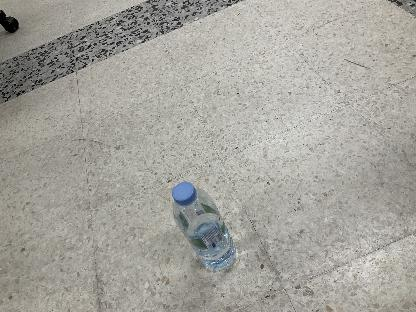Plastic Bottle: (170, 181, 235, 273)
